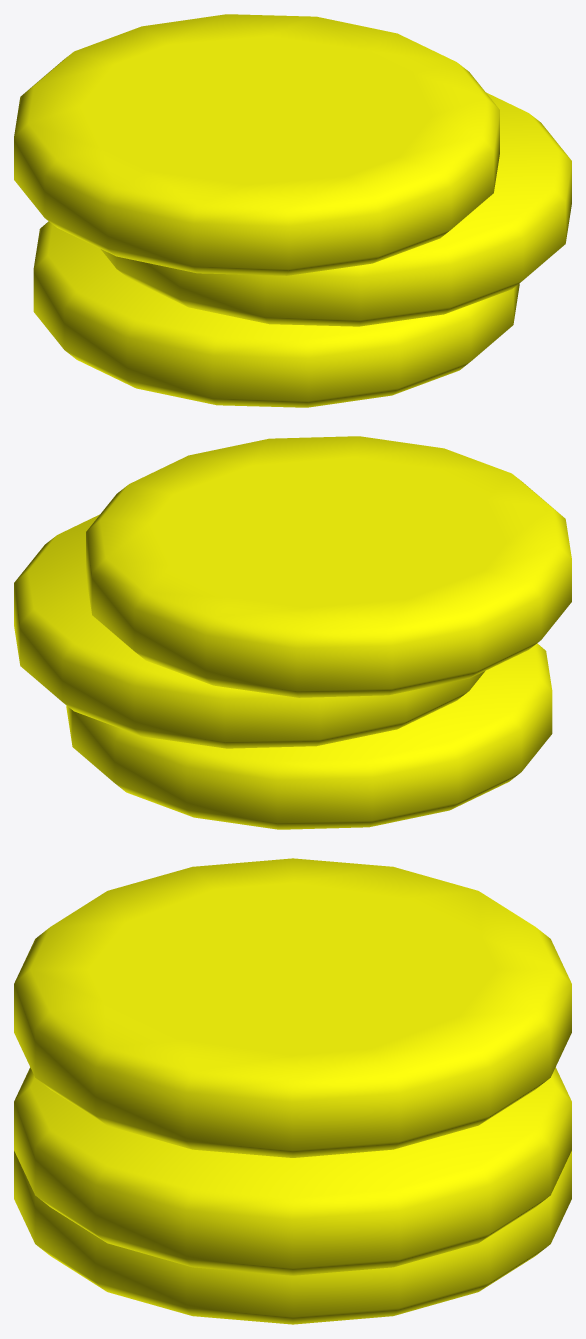
The model's file is kaykit-food-ingredient-tomato-slices.glb.
The picture shows the model from 3 angles, top to bottom: view 1: azimuth 30°, elevation 25°; view 2: azimuth 150°, elevation 25°; view 3: azimuth 270°, elevation 25°; orthographic projection. The views are drawn at different scales.
Visible parts, largest first — view 1: food_ingredient_tomato_slices; view 2: food_ingredient_tomato_slices; view 3: food_ingredient_tomato_slices.
Part boxes in pixels (left/top/right/bottom): food_ingredient_tomato_slices: left=14, top=14, right=571, bottom=407; food_ingredient_tomato_slices: left=14, top=436, right=571, bottom=829; food_ingredient_tomato_slices: left=14, top=858, right=571, bottom=1324.
Bounding box in the file's own units: 0.76 × 0.3 × 0.65.
